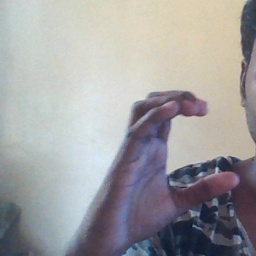C: (119, 84, 247, 214)
